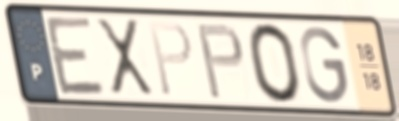E: (41, 13, 110, 99)
G: (297, 24, 351, 107)
O: (244, 20, 305, 107)
P: (194, 21, 247, 102), (146, 20, 195, 100)
X: (92, 15, 158, 99)
